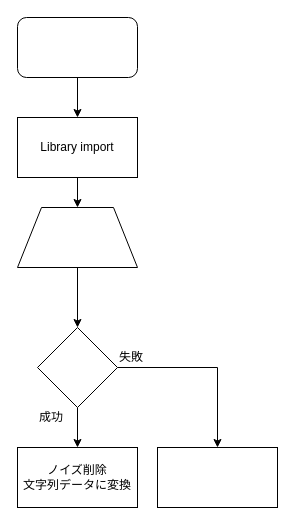
This 295x525 diagram has some shape labels left out. Here are the shapes that lost their labels. From the top down, the centre of each, then its label:
At (x=77, y=47): "Start".
At (x=77, y=367): "音声認識".
